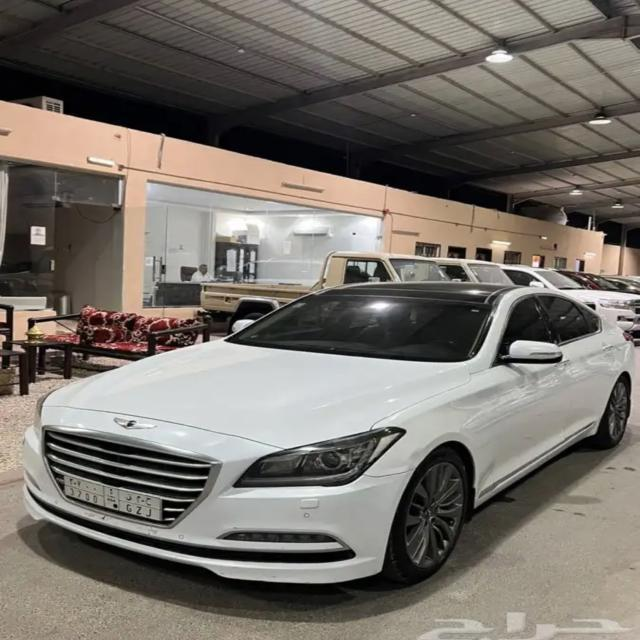license_plate: (64, 474, 164, 520)
